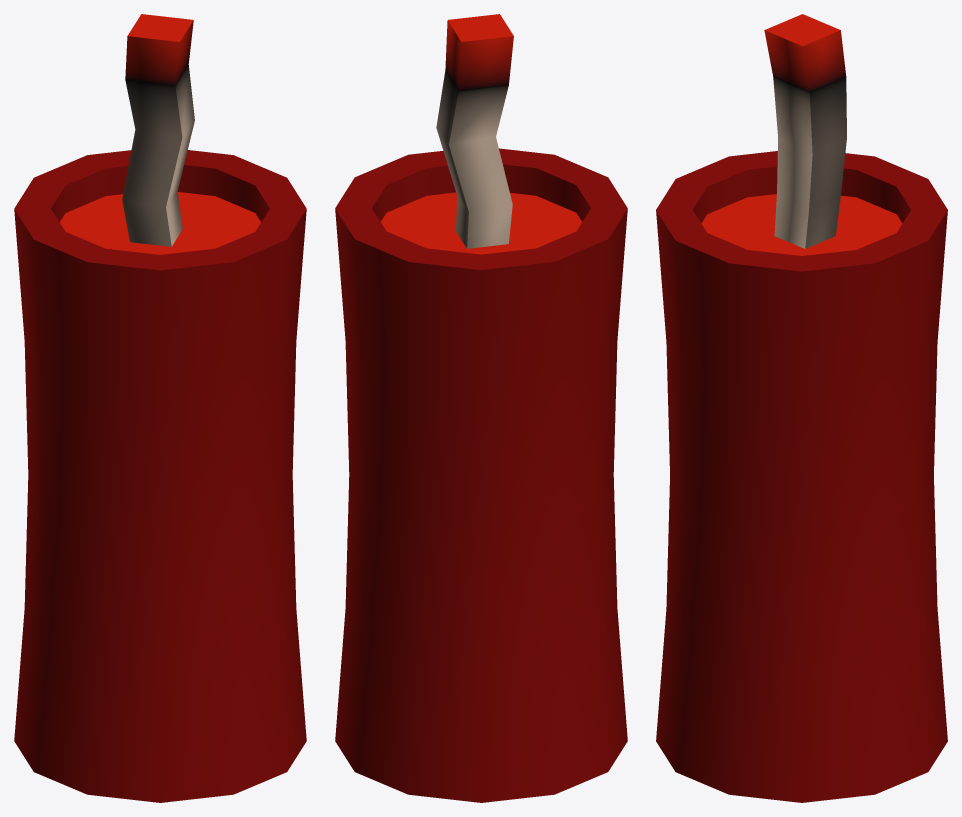
File: TNT.fbx
The picture shows the model from 3 angles, left to right: view 1: azimuth 30°, elevation 25°; view 2: azimuth 150°, elevation 25°; view 3: azimuth 270°, elevation 25°; orthographic projection.
Parts seen in each view (by area): view 1: TNT; view 2: TNT; view 3: TNT.
Part boxes in pixels (bbox=[...]): TNT: bbox=[14, 14, 306, 802]; TNT: bbox=[335, 14, 627, 802]; TNT: bbox=[656, 14, 947, 802].
Size of the model in its own units: 0.4979 by 1.34 by 0.4979.
